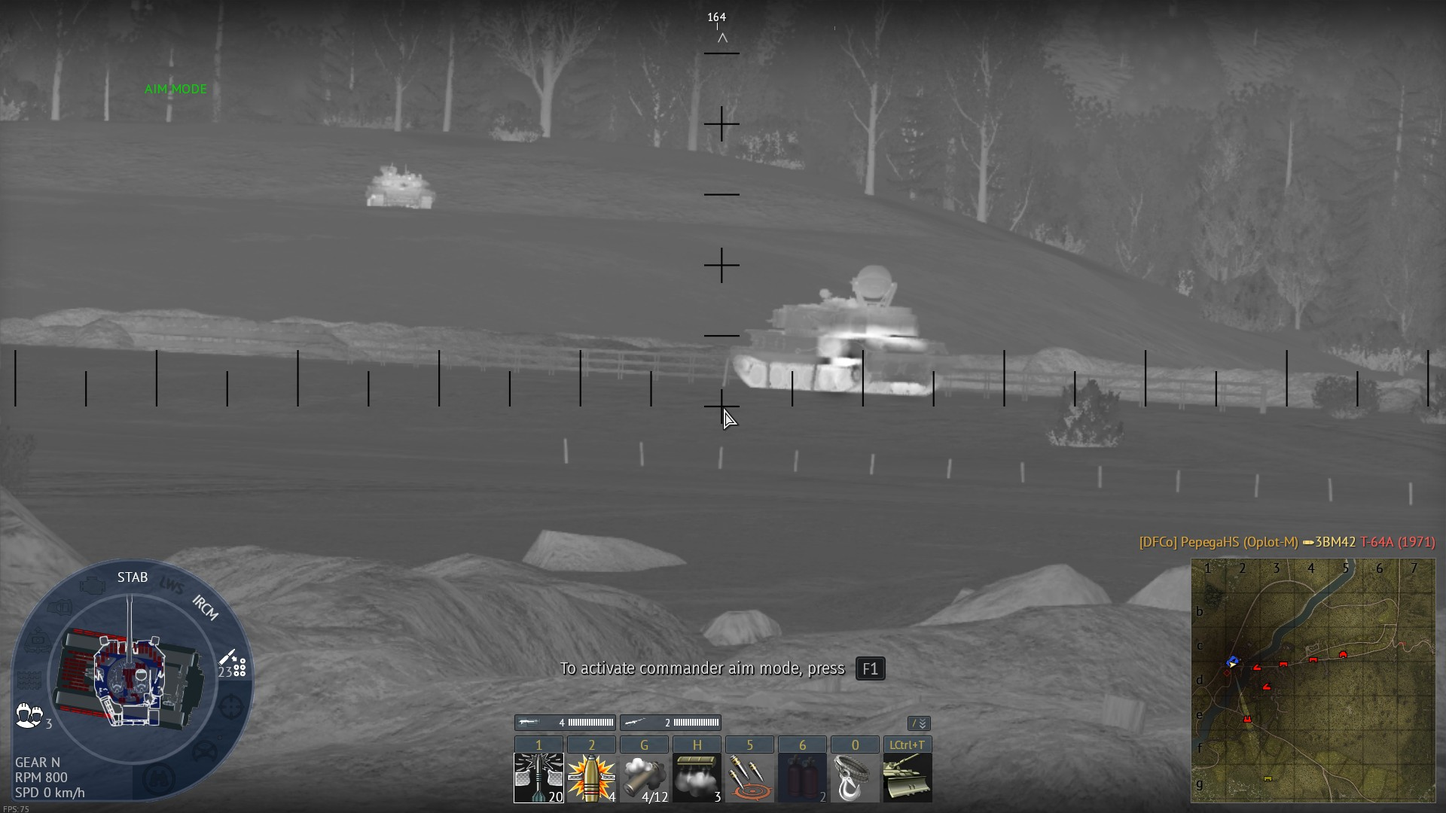spaa_zsu-23: (728, 265, 953, 397)
